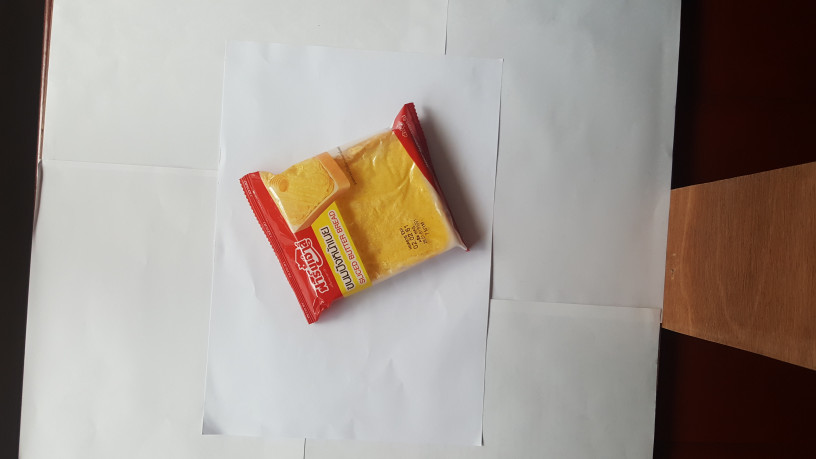farmhouse-bread-butter: (235, 99, 471, 325)
